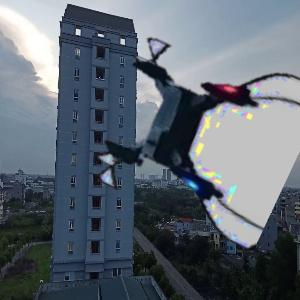drone: (101, 37, 299, 235)
